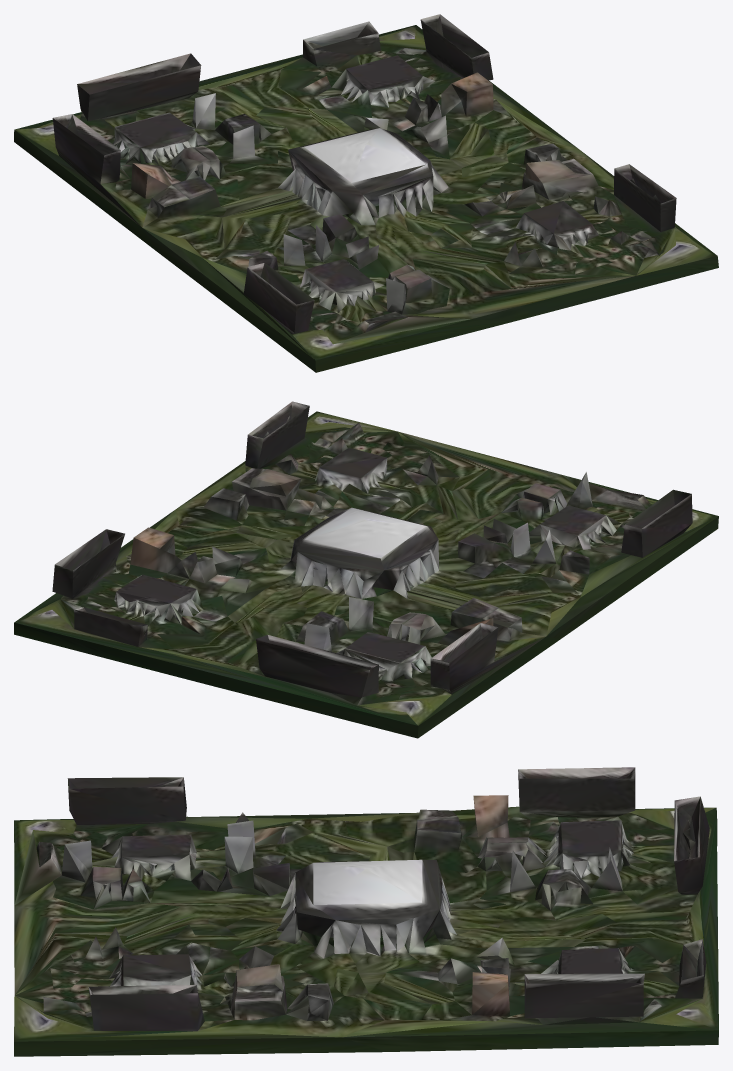
Rendered from part_rare_circuit_voennaya_plata_idle.glb.
3 renders of one model, top to bottom at view 1: azimuth 30°, elevation 25°; view 2: azimuth 150°, elevation 25°; view 3: azimuth 270°, elevation 25°, orthographic. The views are drawn at different scales.
Visible parts, largest first — view 1: tripo_node_19f1db4f-1ed0-4c14-8eb8-2007563a6137; view 2: tripo_node_19f1db4f-1ed0-4c14-8eb8-2007563a6137; view 3: tripo_node_19f1db4f-1ed0-4c14-8eb8-2007563a6137.
Boxes of the visible parts, box(x1,y1,x2,y2) form: tripo_node_19f1db4f-1ed0-4c14-8eb8-2007563a6137: box(14, 14, 718, 372); tripo_node_19f1db4f-1ed0-4c14-8eb8-2007563a6137: box(14, 401, 718, 738); tripo_node_19f1db4f-1ed0-4c14-8eb8-2007563a6137: box(14, 767, 718, 1056).
Size of the model in its own units: 0.077 by 0.0129 by 0.0997.
1 material, 1 textured.
